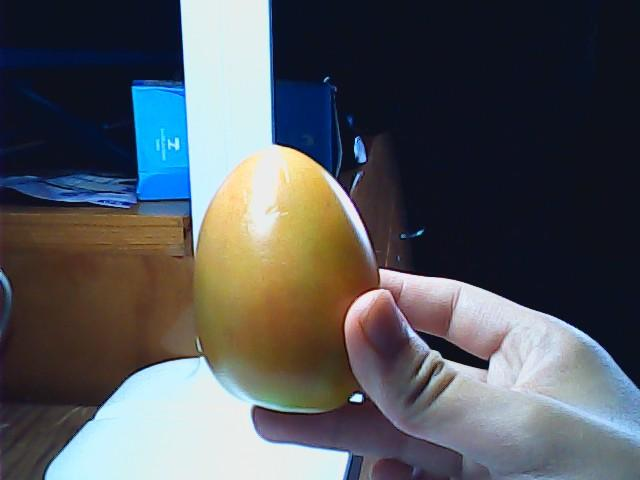verde: (193, 145, 382, 414)
